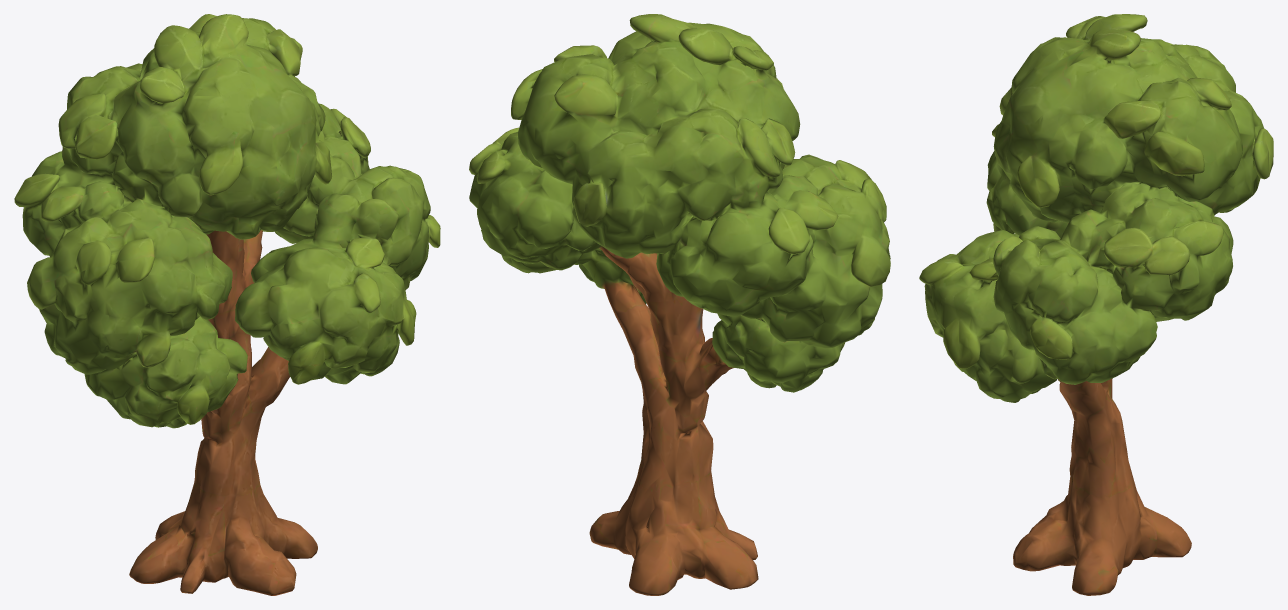
Rendered from tree-small.glb.
The picture shows the model from 3 angles, left to right: view 1: azimuth 30°, elevation 25°; view 2: azimuth 150°, elevation 25°; view 3: azimuth 270°, elevation 25°; orthographic projection. The views are drawn at different scales.
Size of the model in its own units: 1.46 by 1.9 by 1.16.
1 material, 1 textured.
